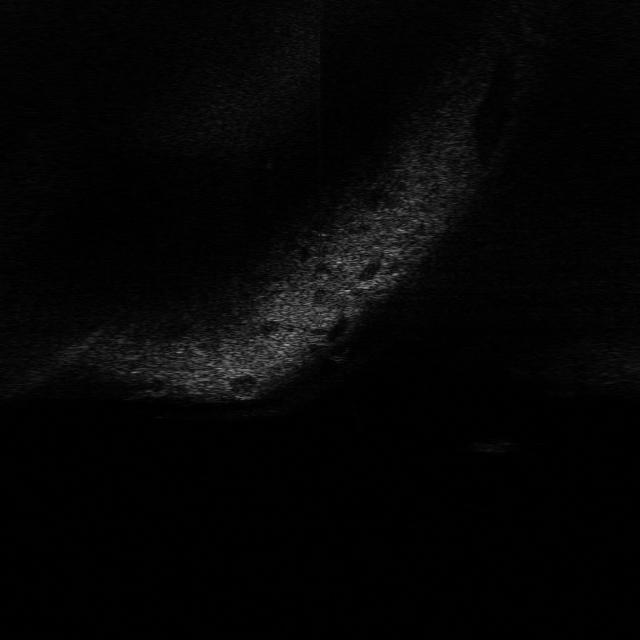ball: (324, 338, 354, 363)
cube: (462, 434, 517, 455)
